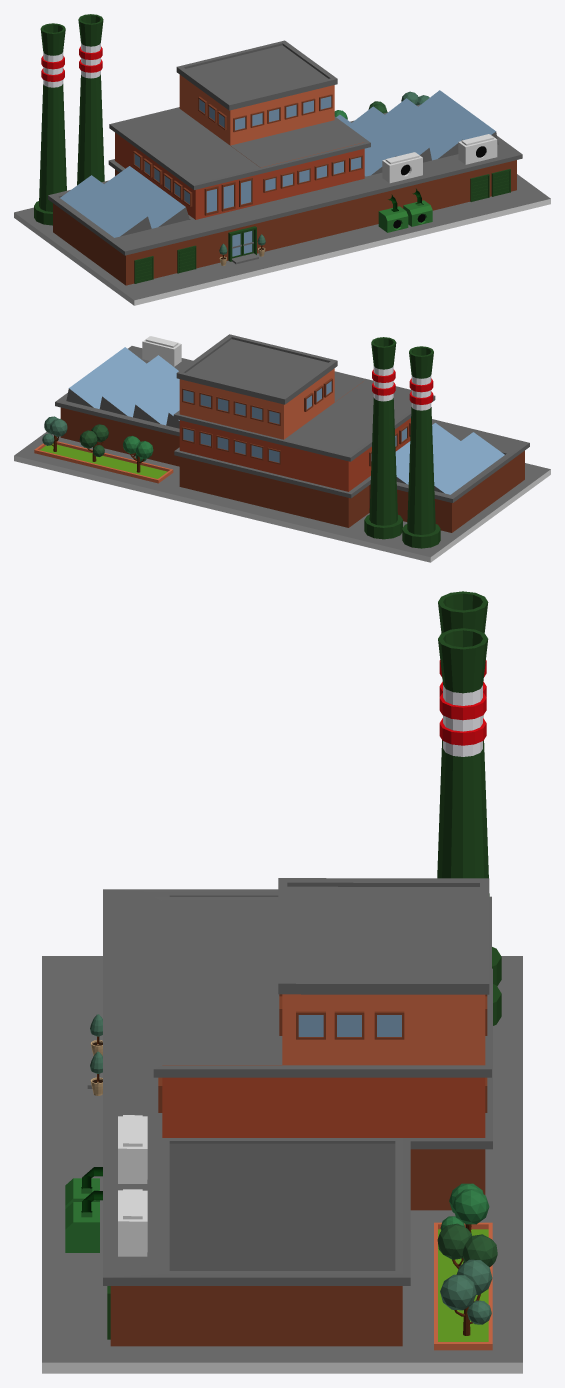
File: Factory Lvl 1.gltf
The picture shows the model from 3 angles, top to bottom: view 1: azimuth 30°, elevation 25°; view 2: azimuth 150°, elevation 25°; view 3: azimuth 270°, elevation 25°; orthographic projection. The views are drawn at different scales.
Parts seen in each view (by area): view 1: fabrika, BAZA 2x2.002, dimnjak.004, prozor.002, ventilacija, ulazna vrata fabrike, vrata garaza.003, vrata garaza.002, vrata garaza.001, vrata garaza.004; view 2: fabrika, dimnjak.004, BAZA 2x2.002, prozor.002, travnjak.001, DRVO 2, DRVO 1, DRVO 3; view 3: fabrika, BAZA 2x2.002, dimnjak.004, travnjak.001, prozor.002, ventilacija, DRVO 3, DRVO 2, DRVO 1.
Boxes of the visible parts, x1,y1,x2,y2 form: fabrika: (48, 40, 522, 285); BAZA 2x2.002: (14, 174, 550, 305); dimnjak.004: (34, 14, 104, 225); prozor.002: (133, 94, 362, 215); ventilacija: (378, 188, 432, 232); ulazna vrata fabrike: (228, 226, 258, 264); vrata garaza.003: (470, 174, 489, 201); vrata garaza.002: (177, 245, 196, 273); vrata garaza.001: (134, 256, 153, 283); vrata garaza.004: (491, 169, 510, 196); fabrika: (55, 334, 529, 532); dimnjak.004: (364, 337, 440, 548); BAZA 2x2.002: (14, 432, 550, 562); prozor.002: (182, 378, 410, 466); travnjak.001: (34, 441, 173, 483); DRVO 2: (79, 424, 108, 461); DRVO 1: (123, 436, 153, 472); DRVO 3: (42, 416, 67, 451); fabrika: (103, 878, 492, 1346); BAZA 2x2.002: (42, 956, 522, 1373); dimnjak.004: (437, 591, 501, 1025); travnjak.001: (434, 1222, 492, 1350); prozor.002: (158, 994, 487, 1112); ventilacija: (65, 1167, 102, 1252); DRVO 3: (440, 1259, 492, 1335); DRVO 2: (437, 1223, 497, 1269); DRVO 1: (440, 1183, 489, 1232).
Size of the model in its own units: 8 by 3.57 by 4.
